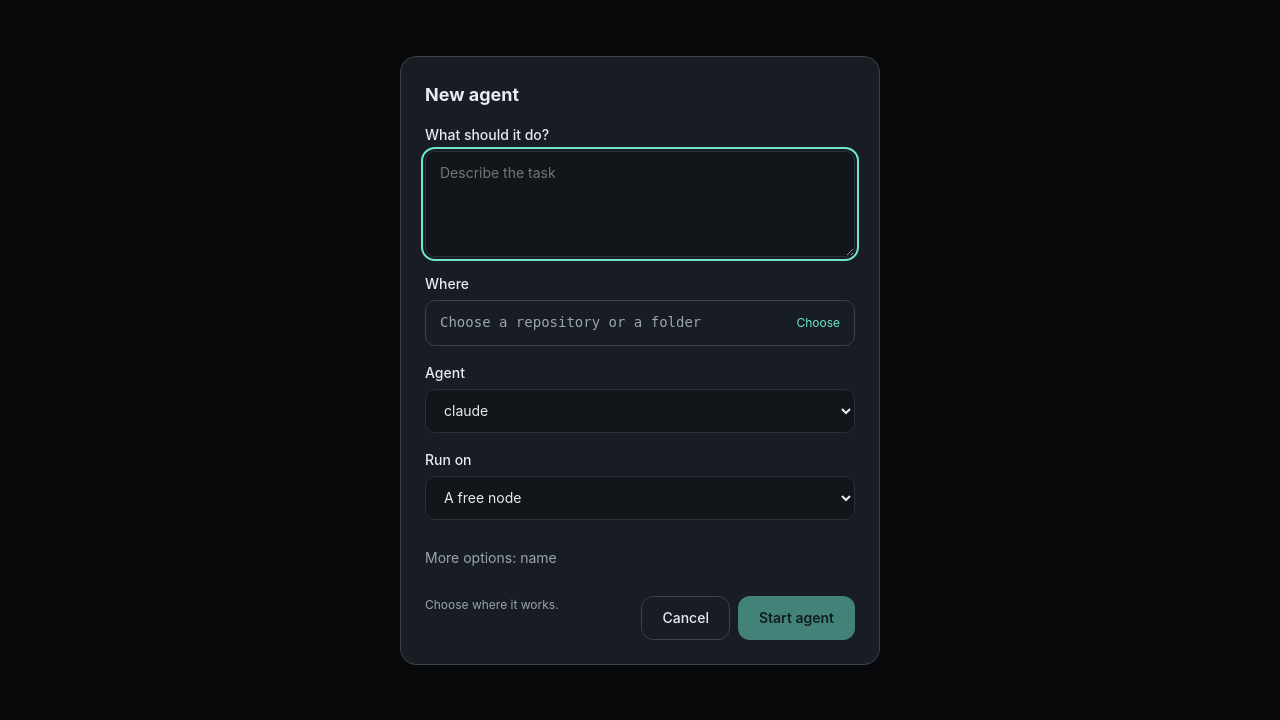
Test: SpawnDialog: repository source › Use stays disabled until a repo and branch are chosen; Start until Where is set; Back keeps the form
Type "keep me" into the text box labelled "What should it do?" at point(640, 204), box [425,150,855,256]
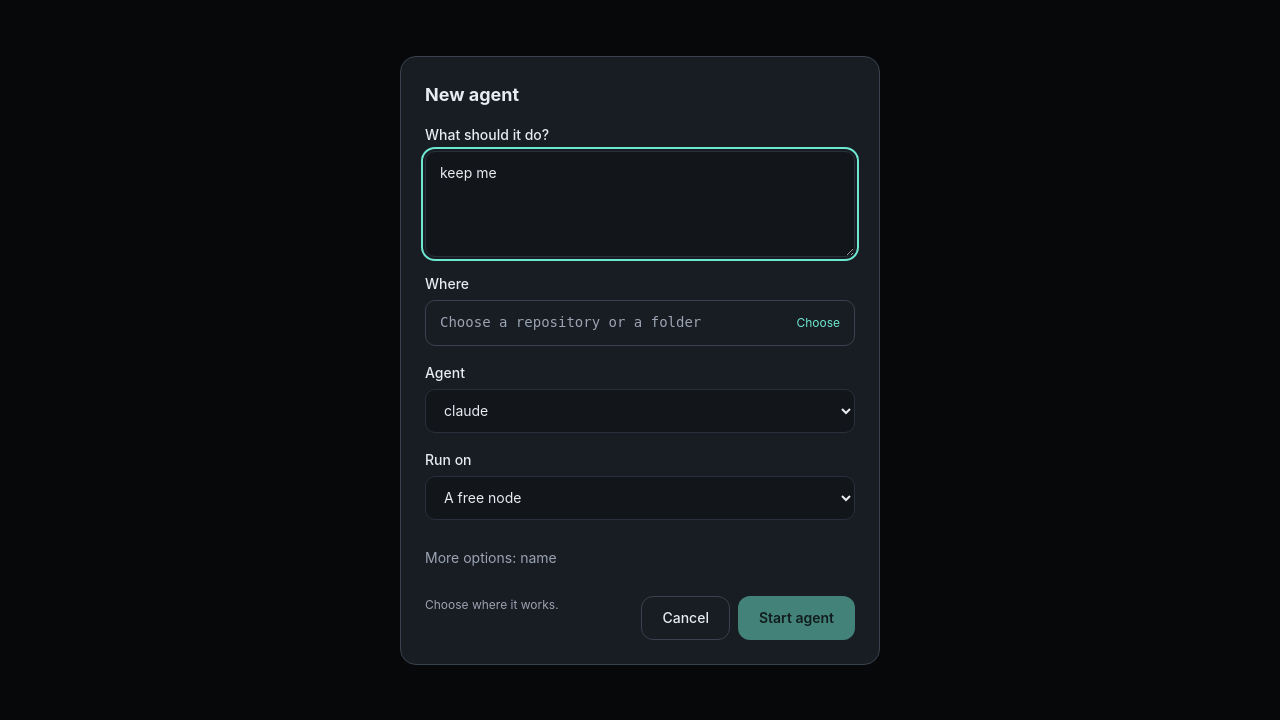
Expected: the button "Start agent" is disabled, [738,596,855,640]
Expected: the text "Choose where it works." is shown, [425,596,559,612]
Click the button named "Where" at point(640, 322), box [425,300,855,346]
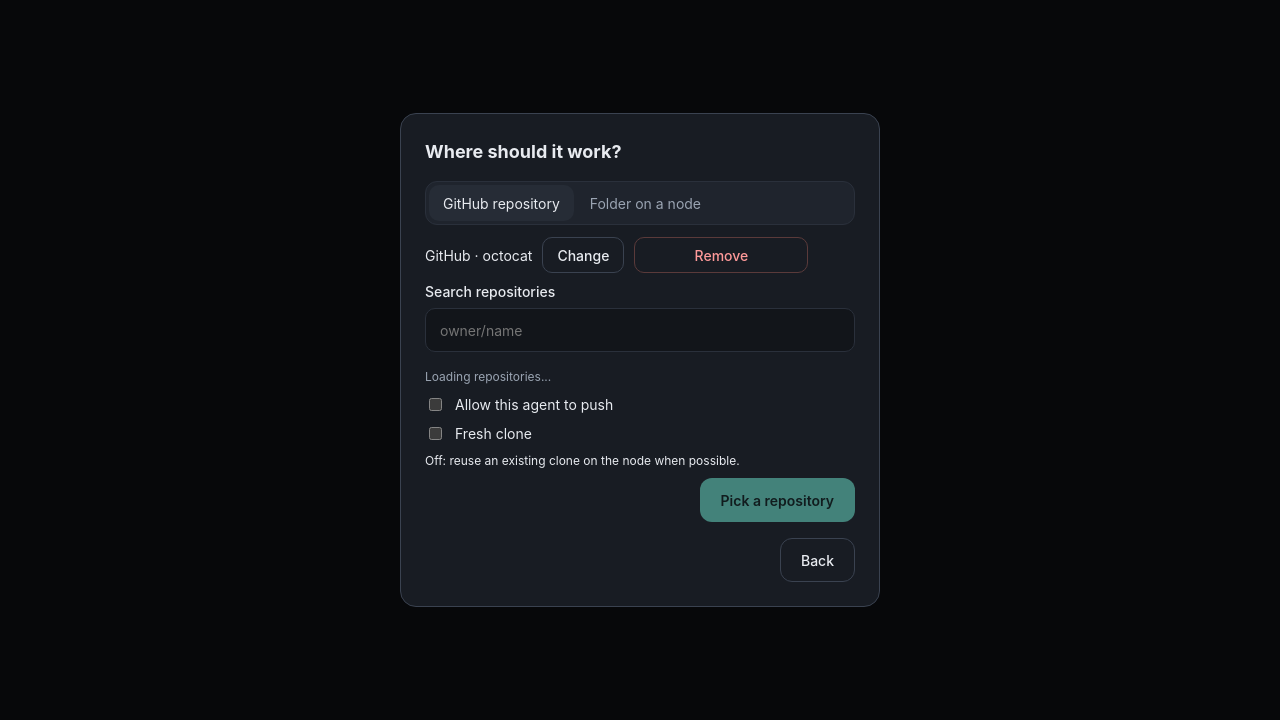
Expected: the button "Pick a repository" is disabled, [700,478,855,522]
Click the radio button labelled "Folder on a node" at point(645, 203), box [576,185,715,221]
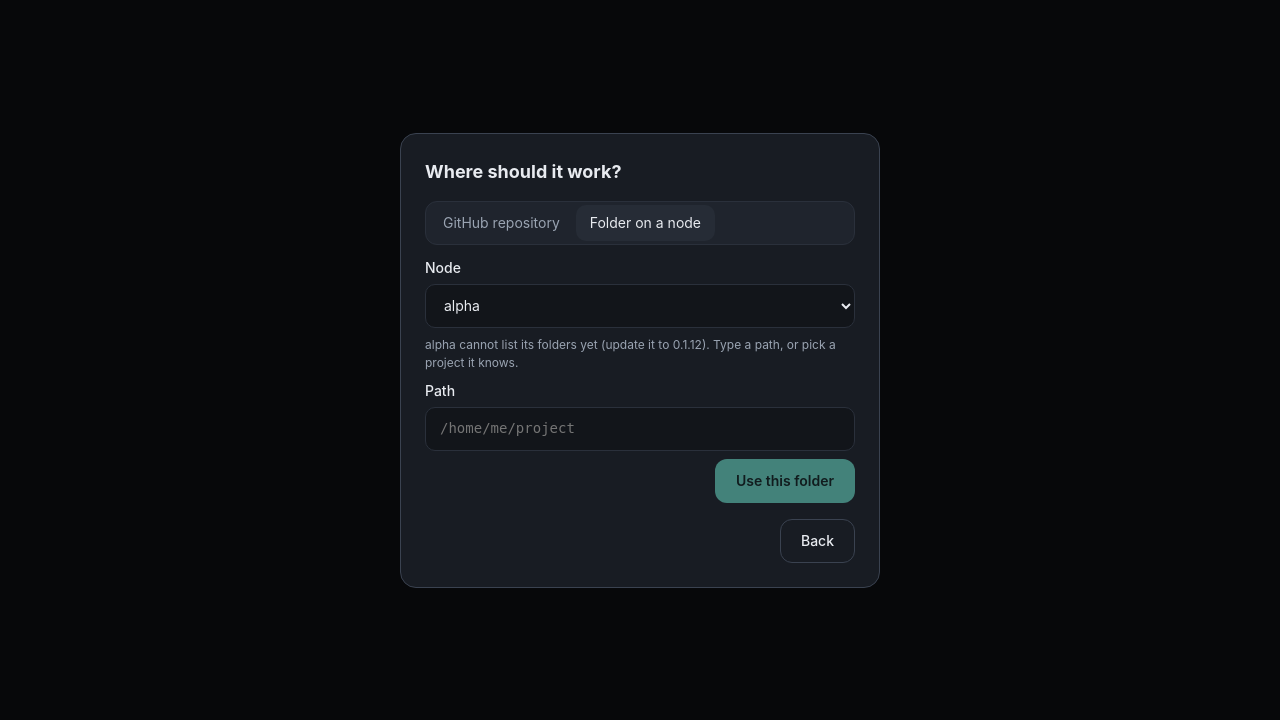
Expected: the field labelled "Path" is shown, [425,406,855,450]
Click the button "Back" at point(817, 540), box [780,518,855,562]
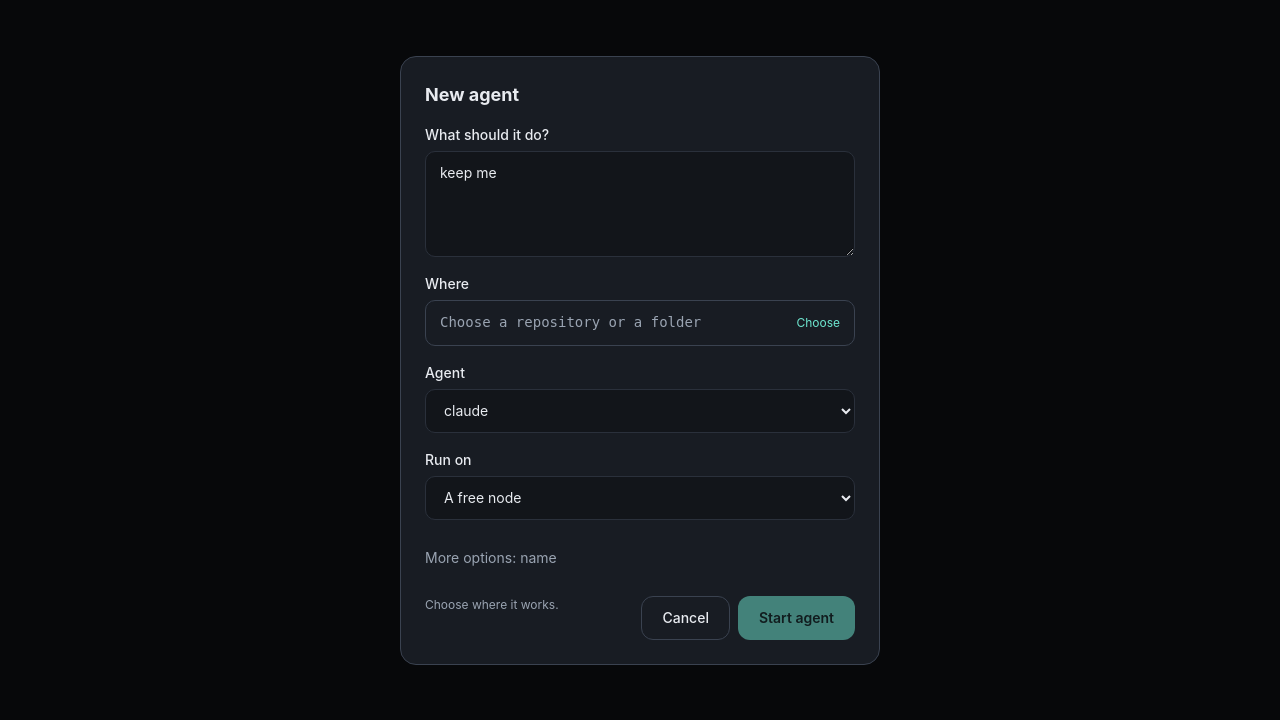
Expected: the text box labelled "What should it do?" holds "keep me", [425,150,855,256]
